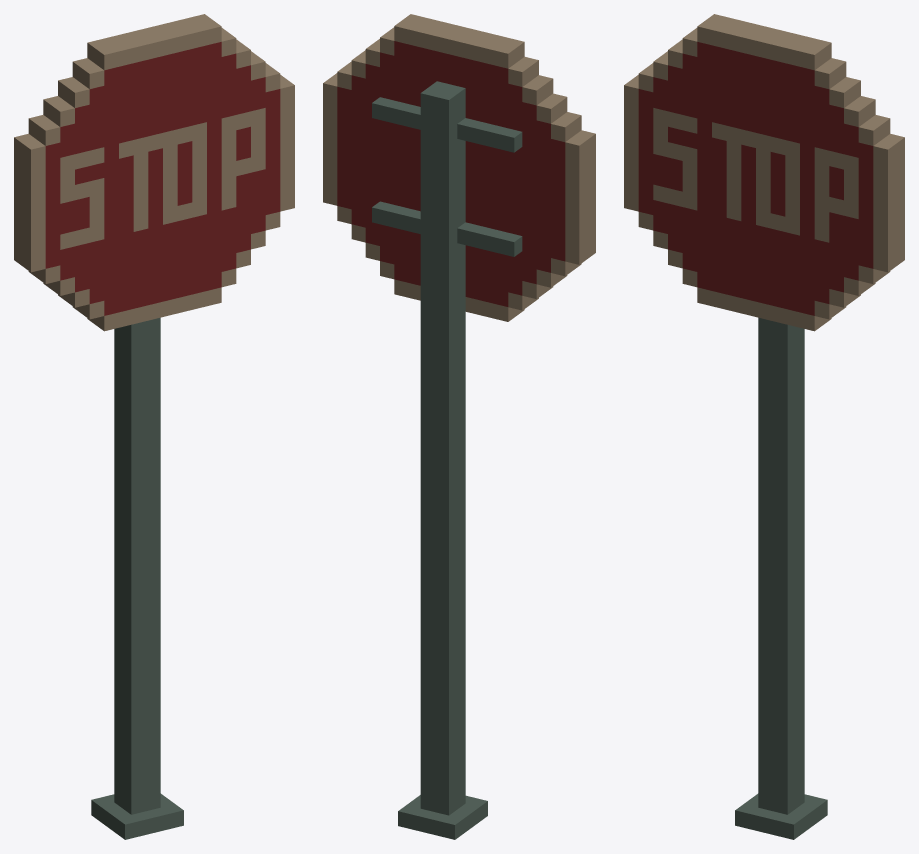
The model's file is cars_sign_66.glb.
3 views of the same model, side by side, from view 1: azimuth 30°, elevation 25°; view 2: azimuth 150°, elevation 25°; view 3: azimuth 330°, elevation 25° (orthographic). The views are drawn at different scales.
Visible parts, largest first — view 1: cars_sign_66; view 2: cars_sign_66; view 3: cars_sign_66.
Boxes of the visible parts, bbox=[...] form: cars_sign_66: bbox=[14, 14, 294, 839]; cars_sign_66: bbox=[323, 14, 595, 839]; cars_sign_66: bbox=[624, 14, 904, 839].
Bounding box in the file's own units: 0.9 × 2.6 × 0.25.
Materials: 1 (1 with a texture image).
